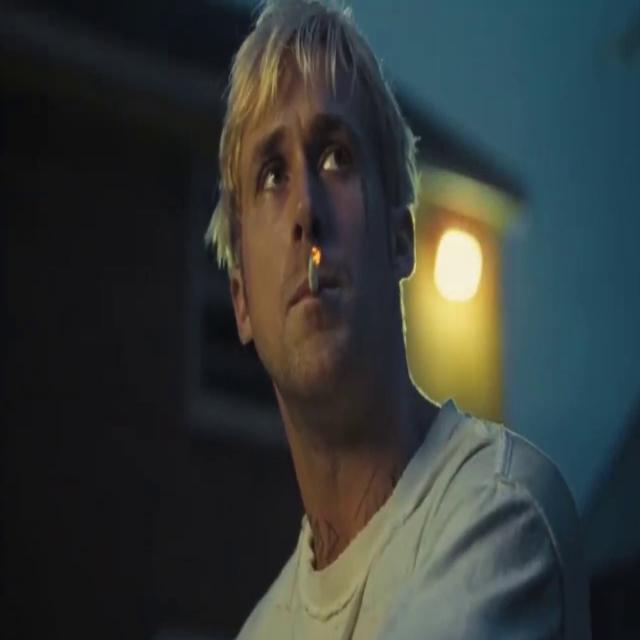Smooking: (301, 239, 329, 301)
